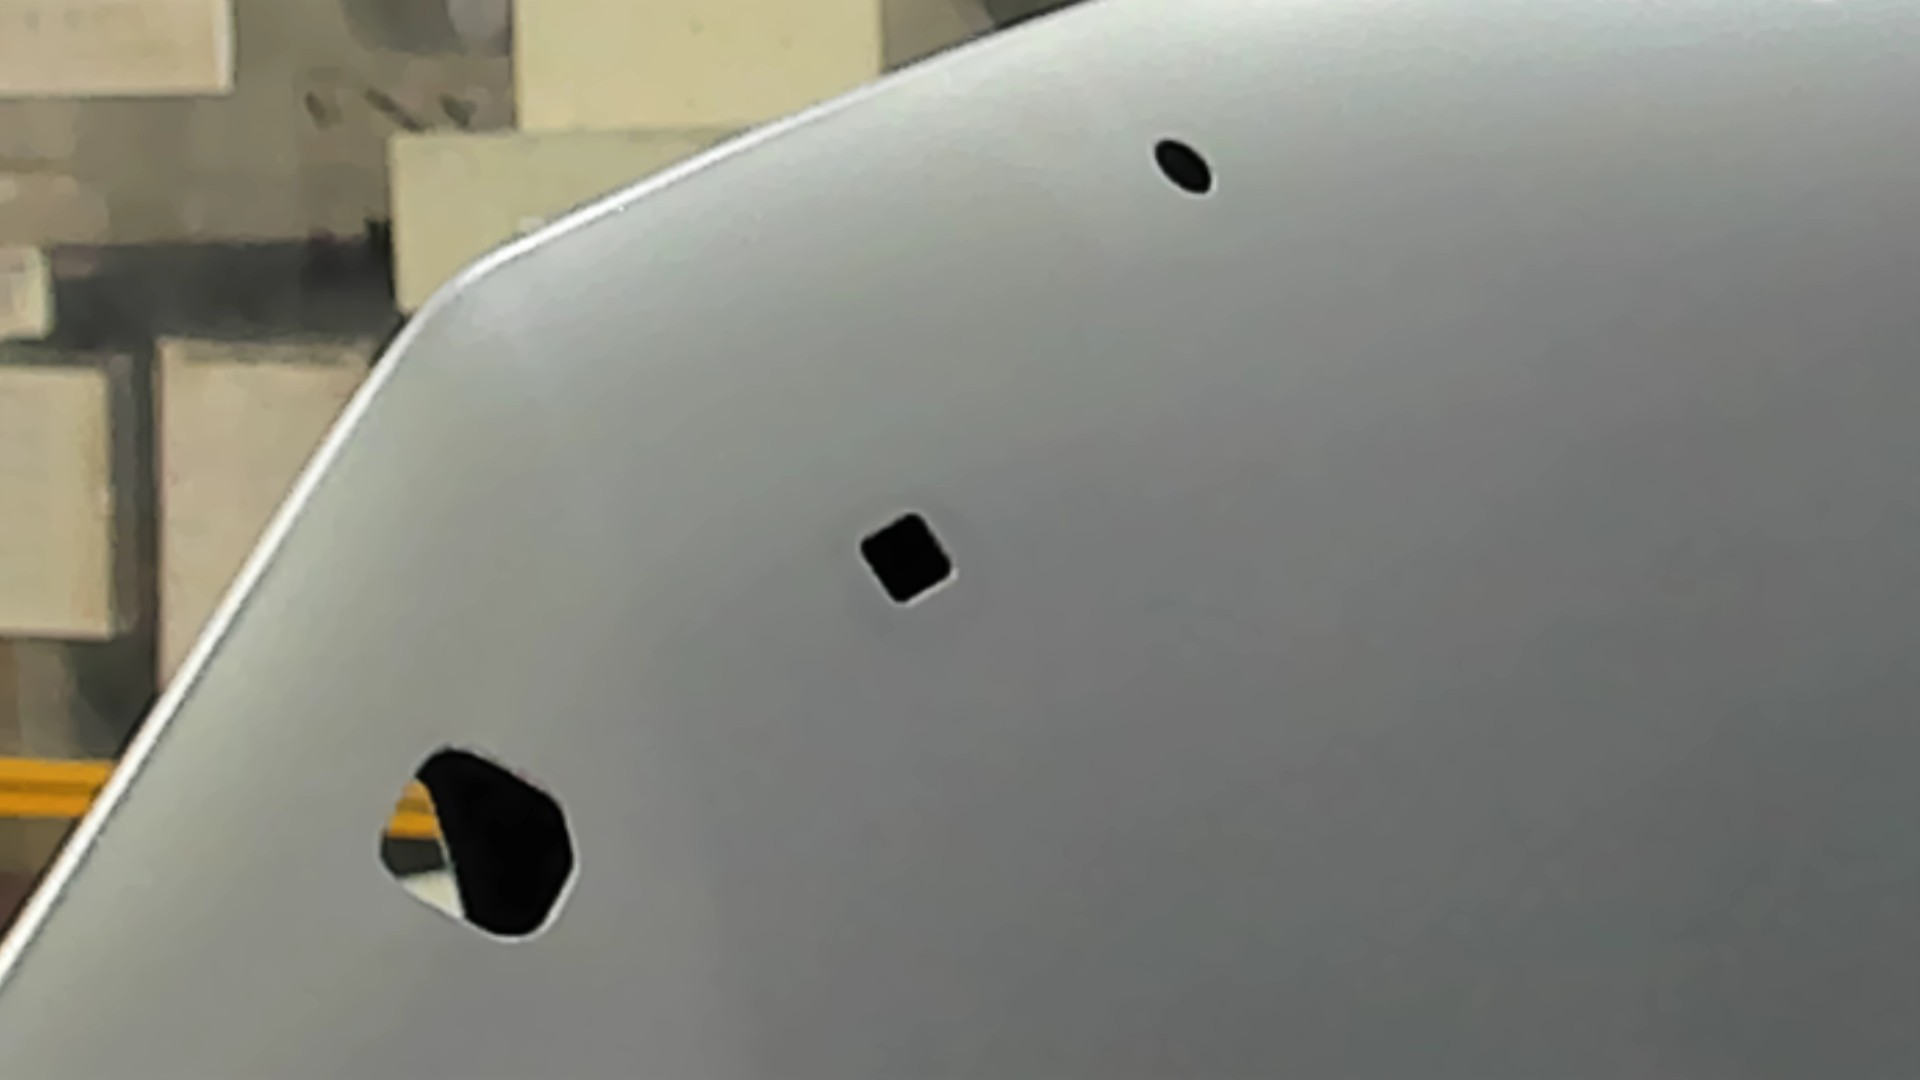chico: (1150, 135, 1216, 200)
grande: (377, 742, 582, 949)
mediano: (855, 510, 957, 611)
